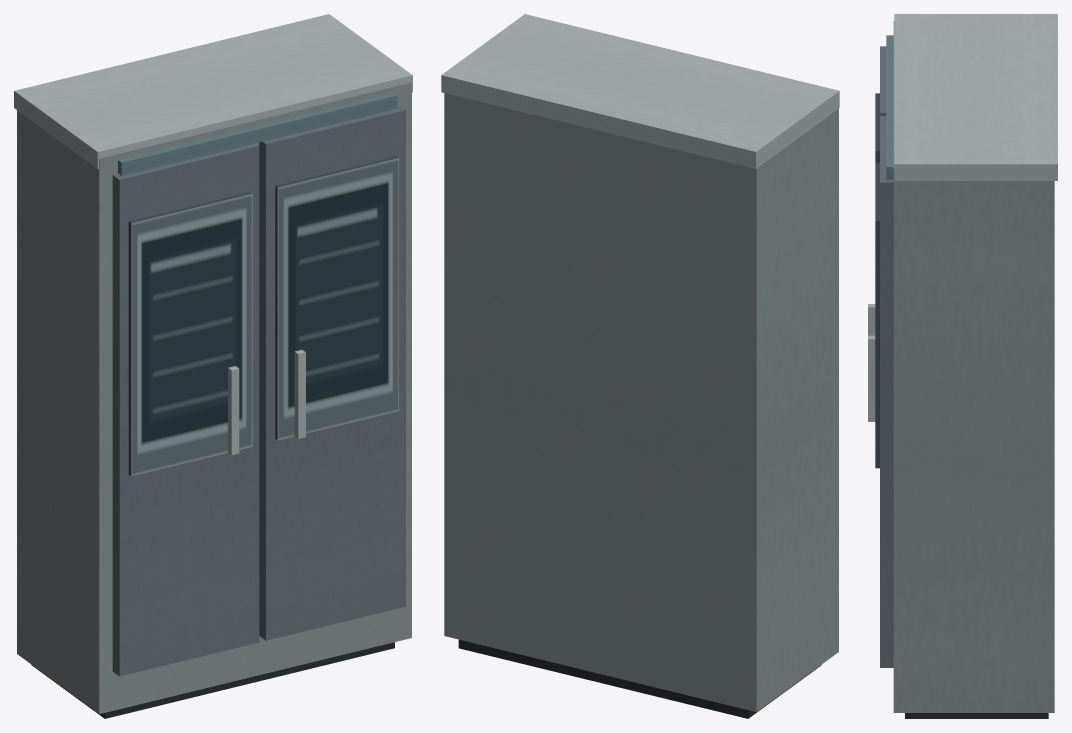
Rendered from Laboratory_Storage_Cabinet.glb.
3 views of the same model, side by side, from view 1: azimuth 30°, elevation 25°; view 2: azimuth 150°, elevation 25°; view 3: azimuth 270°, elevation 25° (orthographic). The views are drawn at different scales.
Parts seen in each view (by area): view 1: Laboratory_Storage_Cabinet; view 2: Laboratory_Storage_Cabinet; view 3: Laboratory_Storage_Cabinet.
Boxes of the visible parts, x1=… form: Laboratory_Storage_Cabinet: x1=14, y1=14, x2=412, y2=718; Laboratory_Storage_Cabinet: x1=441, y1=14, x2=839, y2=718; Laboratory_Storage_Cabinet: x1=868, y1=14, x2=1057, y2=718.
Bounding box in the file's own units: 1.04 × 1.81 × 0.556.
Materials: 1 (1 with a texture image).
